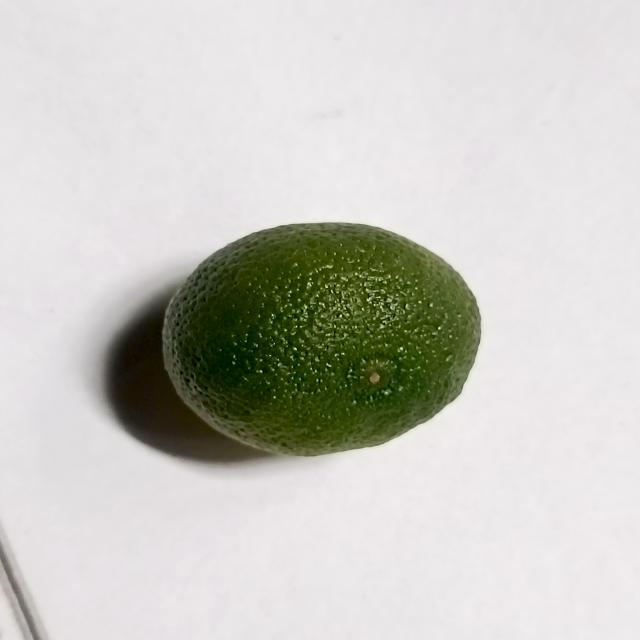heathy: (162, 218, 486, 460)
